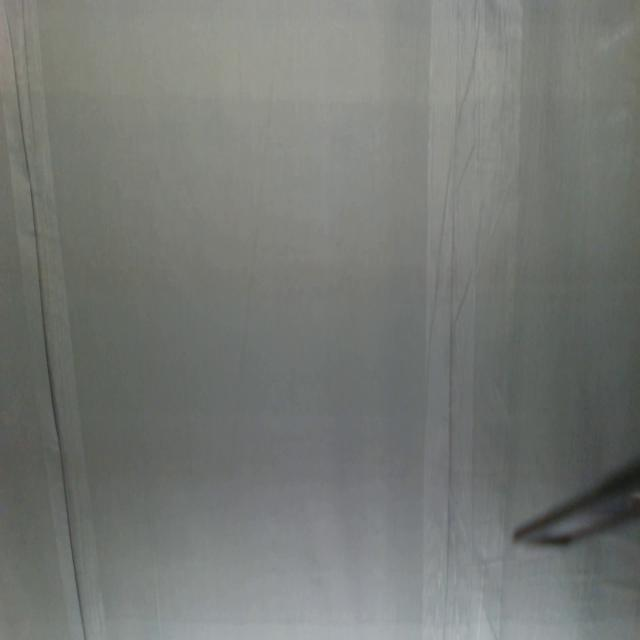crease: (2, 0, 102, 640), (423, 0, 485, 638)
